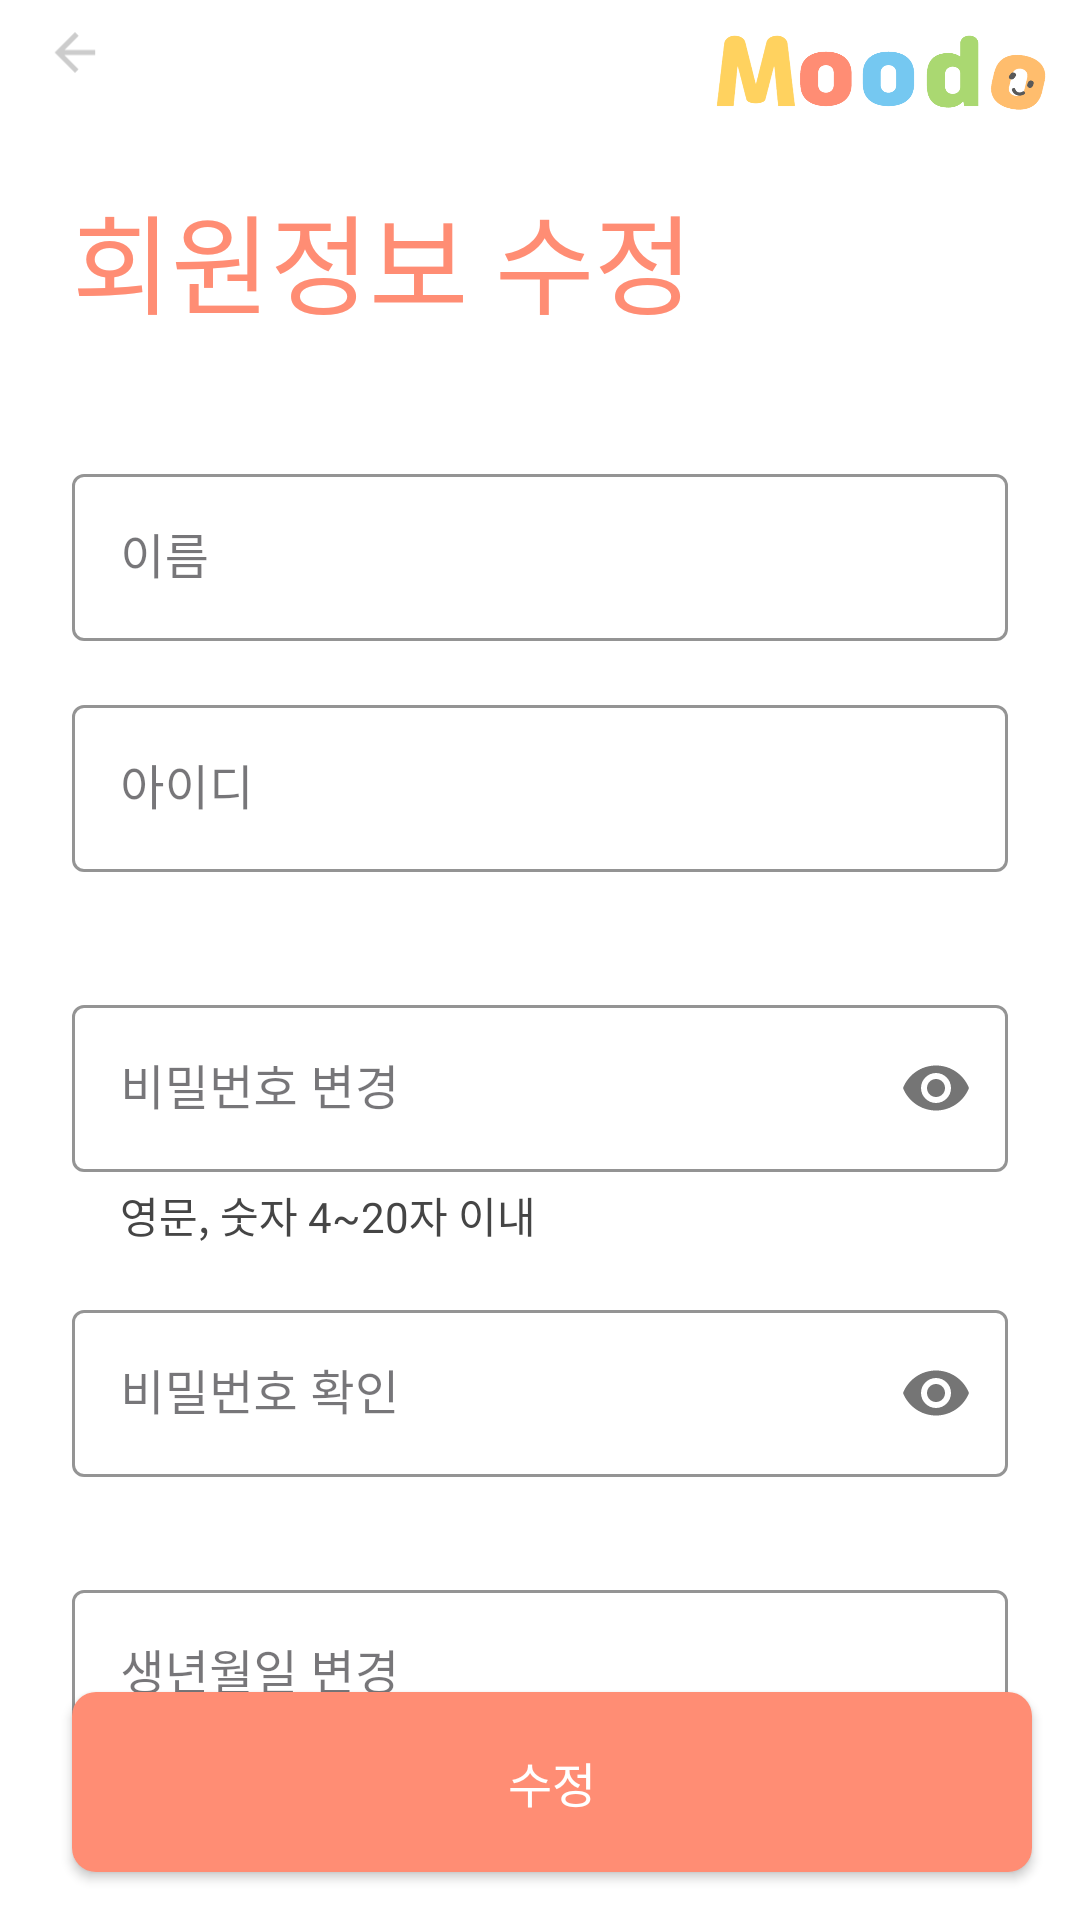

Named icons in this screenshot (1080*1920) and their centers, (x,y):
back: (75,52)
